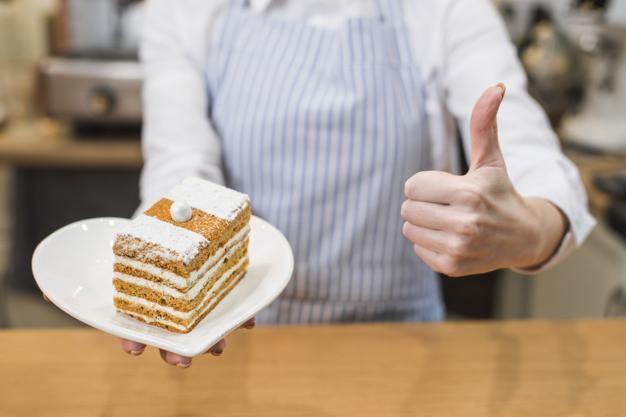thumbsup: (400, 83, 506, 278)
